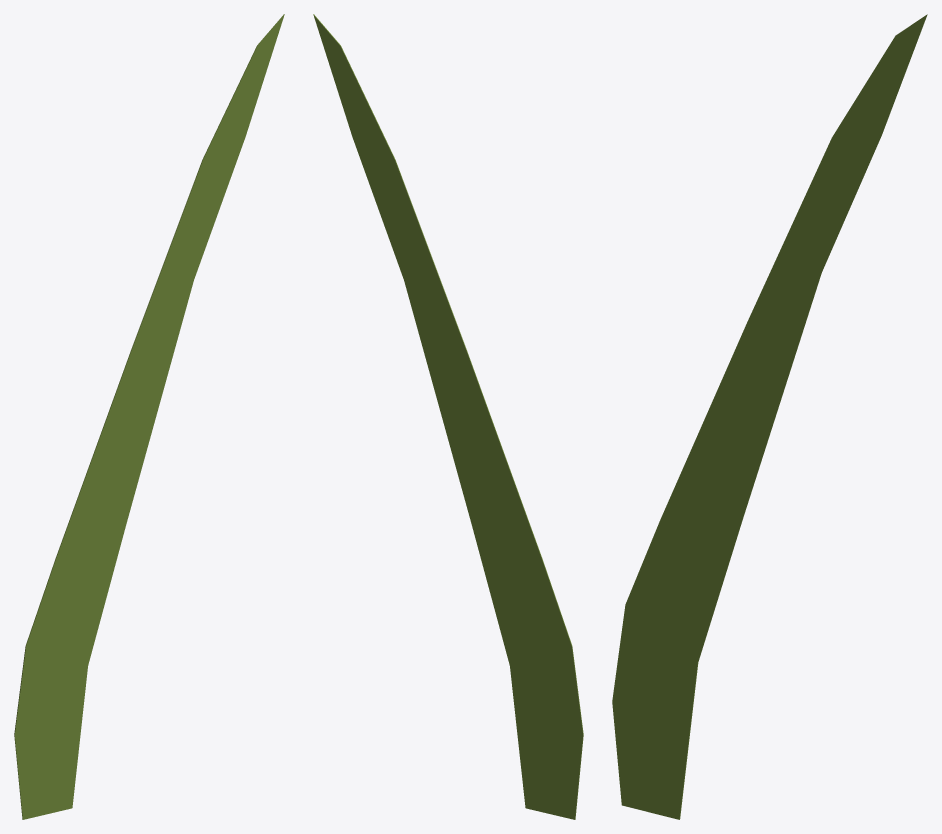
Rendered from tower.fbx_grass.fbx.
3 renders of one model, left to right at view 1: azimuth 30°, elevation 25°; view 2: azimuth 150°, elevation 25°; view 3: azimuth 330°, elevation 25°, orthographic. The views are drawn at different scales.
Visible parts, largest first — view 1: Vert.003; view 2: Vert.003; view 3: Vert.003.
Boxes of the visible parts, bbox=[...] form: Vert.003: bbox=[14, 14, 284, 819]; Vert.003: bbox=[313, 14, 583, 819]; Vert.003: bbox=[612, 14, 927, 819].
Size of the model in its own units: 304 by 800 by 1.
